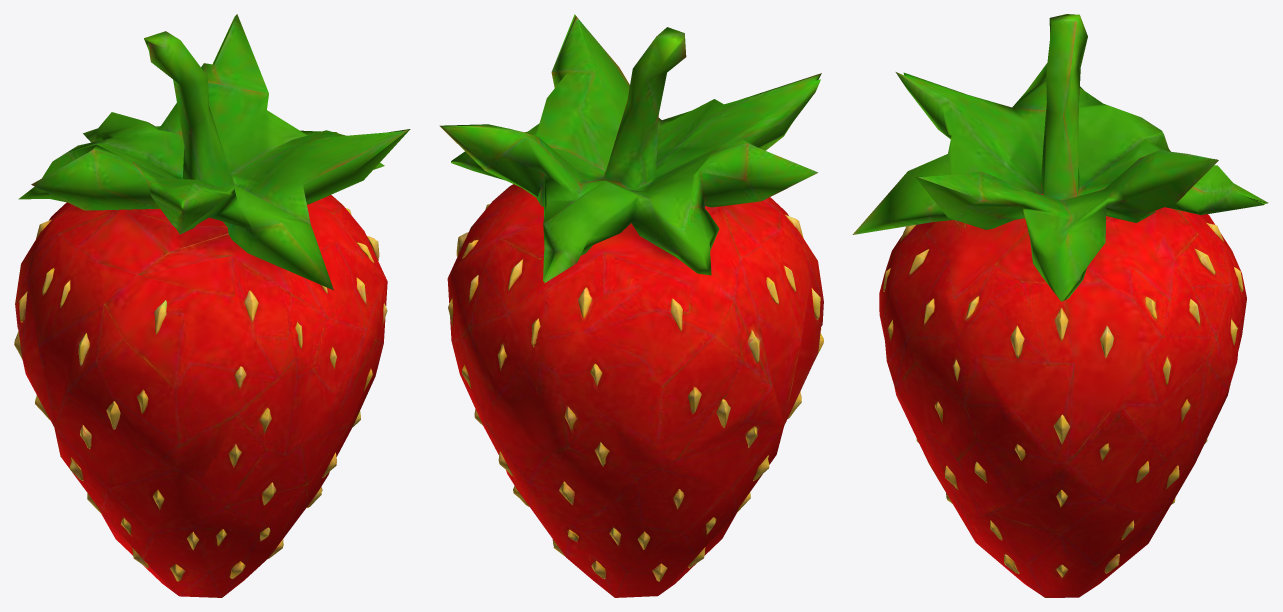
The picture shows the model from 3 angles, left to right: view 1: azimuth 30°, elevation 25°; view 2: azimuth 150°, elevation 25°; view 3: azimuth 270°, elevation 25°; orthographic projection. The views are drawn at different scales.
Visible parts, largest first — view 1: geometry_0; view 2: geometry_0; view 3: geometry_0.
Part boxes in pixels (<box>): geometry_0: <box>14,14,410,597</box>; geometry_0: <box>439,14,823,597</box>; geometry_0: <box>852,14,1268,597</box>.
Bounding box in the file's own units: 0.6353 × 0.9517 × 0.646.
Materials: 1 (1 with a texture image).
